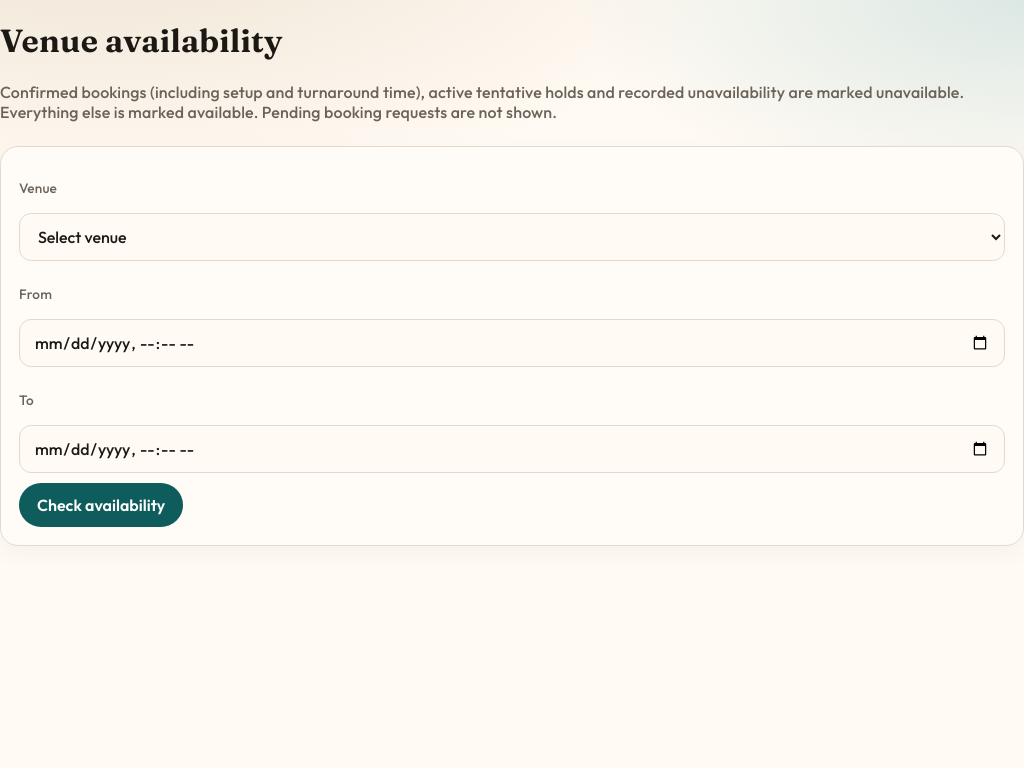
it: SCRUM-67 Existing bookings list › US67-F01 (AC1+AC2): lists confirmed bookings with occupied windows and holds marked as holds
Select "Helix Hall" in the dropdown labelled "Venue" at (512, 237), box x1=19 y1=213 x2=1005 y2=261
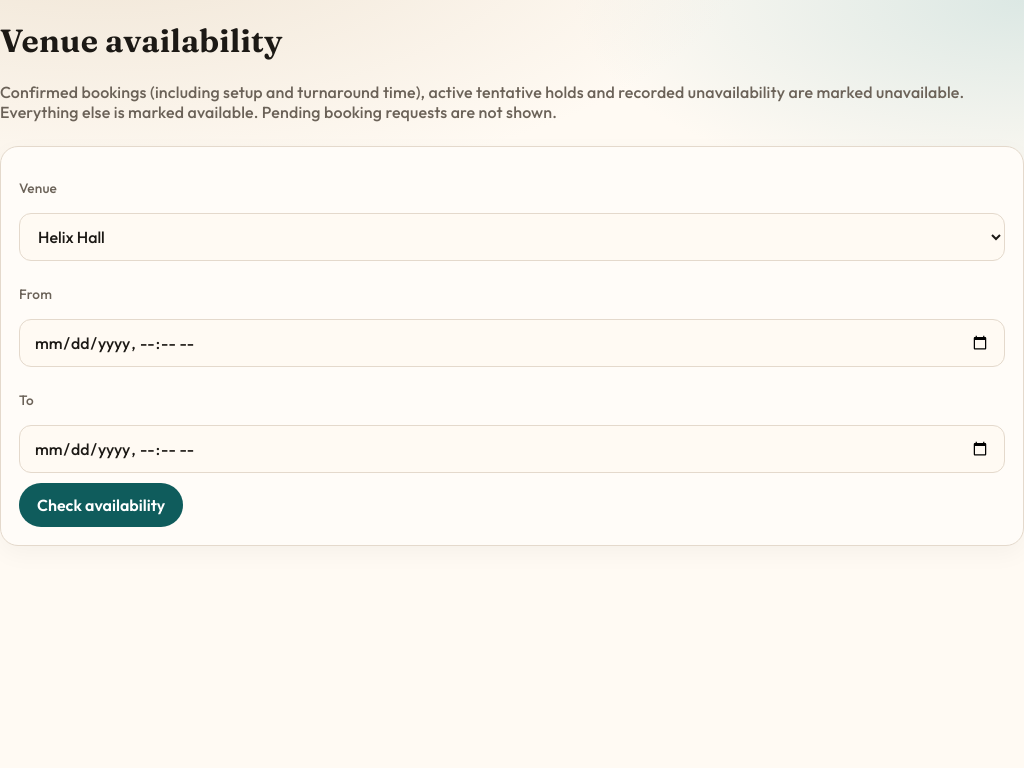
Type "2026-10-20T08:00" into the field labelled "From" at (512, 343), box x1=19 y1=319 x2=1005 y2=367
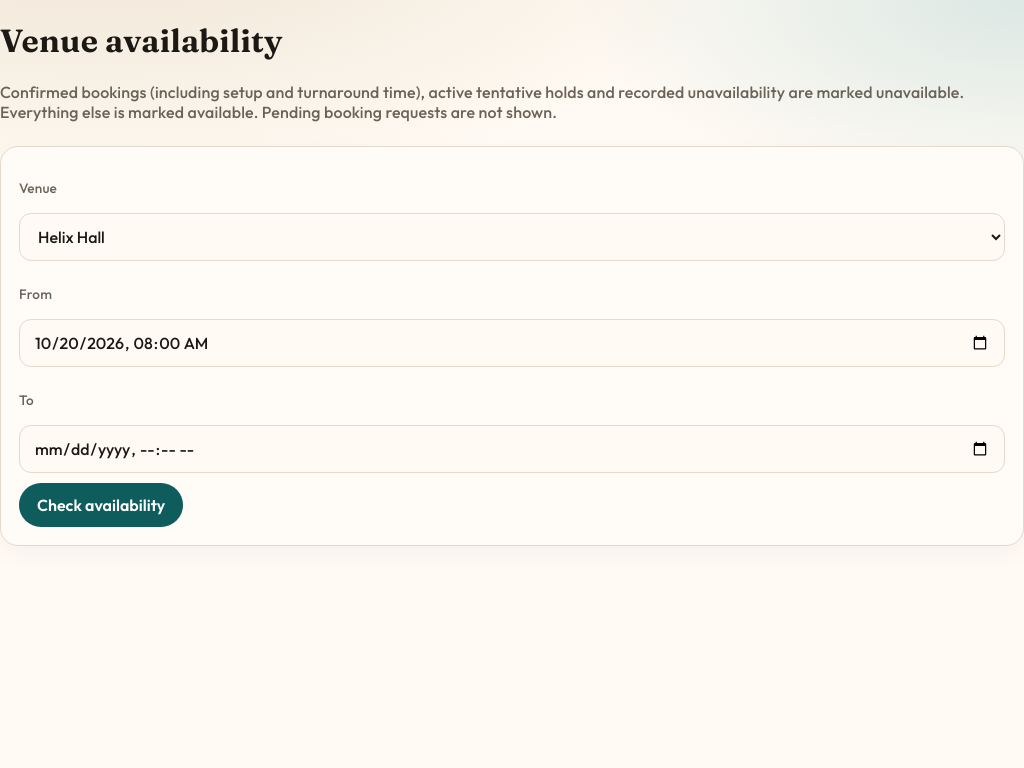
Type "2026-10-20T14:00" into the field labelled "To" at (512, 449), box x1=19 y1=425 x2=1005 y2=473
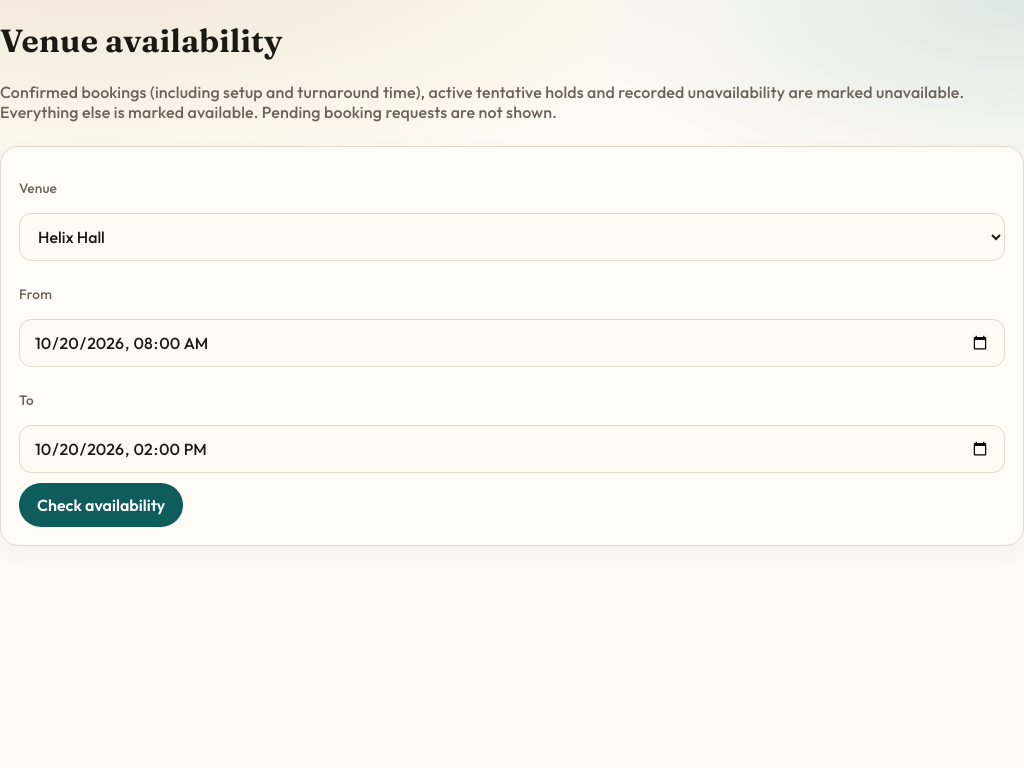
Click the button "Check availability" at (101, 505), box x1=19 y1=483 x2=183 y2=527
(page scrolled)
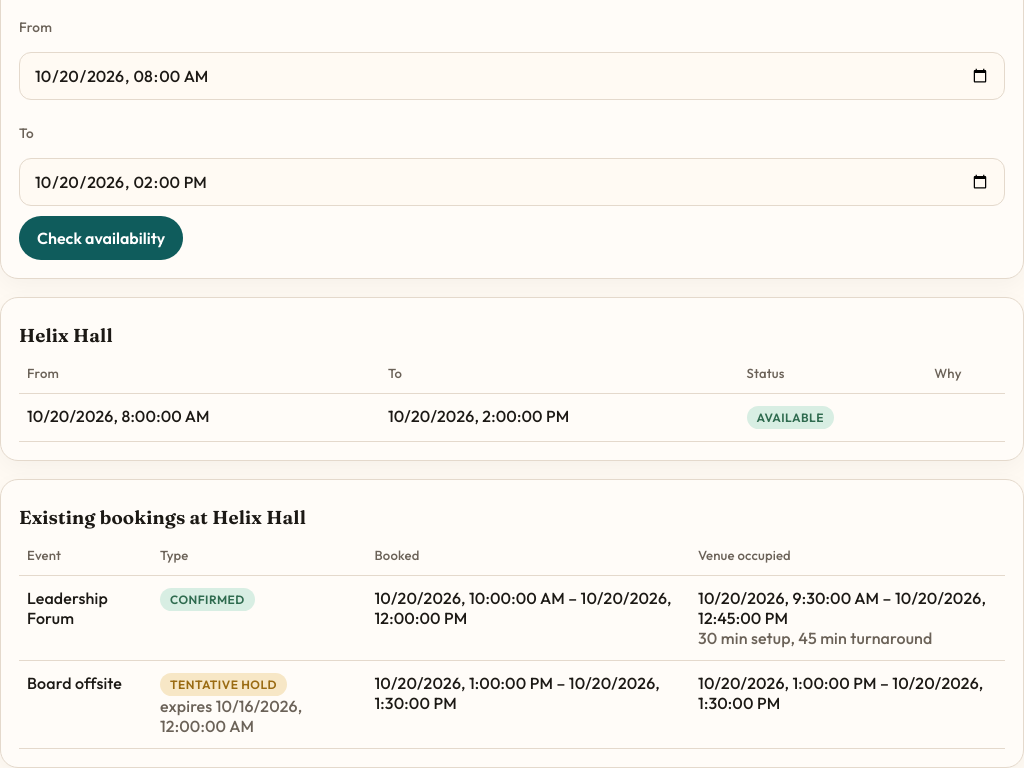
Expected: the heading "Existing bookings at Helix Hall" is shown, x1=19 y1=506 x2=306 y2=529
Expected: the text "Leadership Forum" is shown, x1=19 y1=575 x2=152 y2=660
Expected: the text "Confirmed" is shown, x1=160 y1=588 x2=255 y2=611
